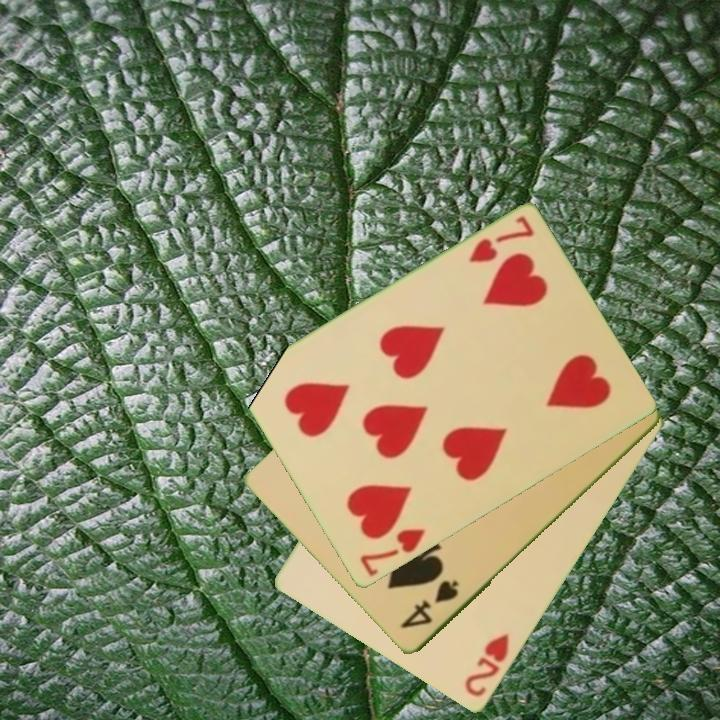2h: (461, 630, 512, 700)
4s: (397, 577, 462, 632)
7h: (356, 525, 429, 580), (465, 213, 537, 267)
